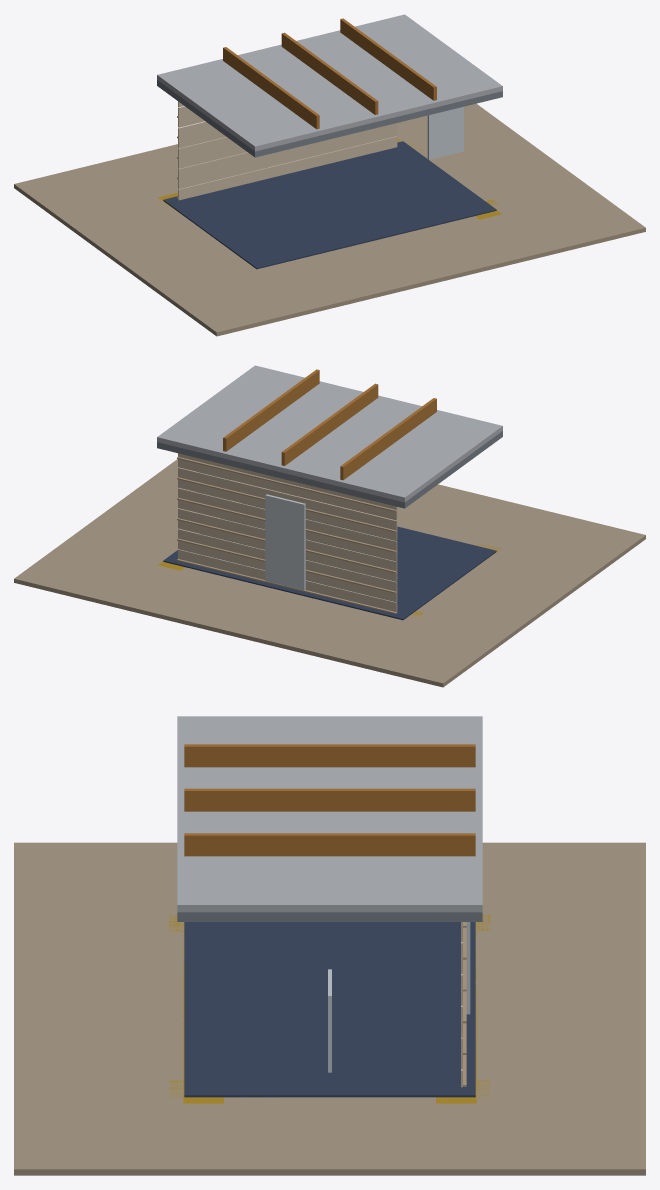
File: stage_10_roof_covering.glb
3 renders of one model, top to bottom at view 1: azimuth 30°, elevation 25°; view 2: azimuth 150°, elevation 25°; view 3: azimuth 270°, elevation 25°, orthographic. The views are drawn at different scales.
Visible parts, largest first — view 1: world; view 2: world; view 3: world.
Part boxes in pixels (x1,y1,x2,y2): world: [14, 14, 645, 336]; world: [14, 365, 645, 687]; world: [14, 716, 645, 1175].
Size of the model in its own units: 11 by 4.2 by 9.
